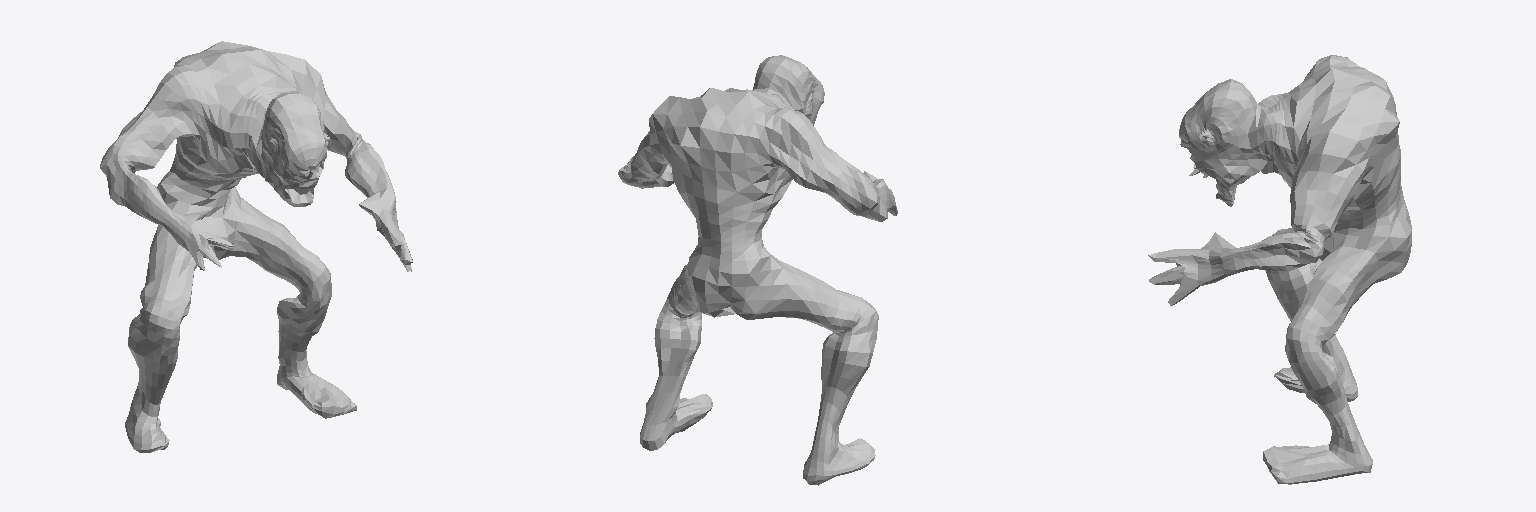
File: trest.obj
The picture shows the model from 3 angles: view 1: azimuth 30°, elevation 25°; view 2: azimuth 150°, elevation 25°; view 3: azimuth 270°, elevation 25°; orthographic projection.
Parts seen in each view (by area): view 1: LOWPOLY; view 2: LOWPOLY; view 3: LOWPOLY.
Boxes of the visible parts, <box> form: LOWPOLY: <box>100,41,412,452</box>; LOWPOLY: <box>618,55,897,485</box>; LOWPOLY: <box>1148,55,1411,484</box>.
Size of the model in its own units: 28.72 by 38.29 by 24.79.